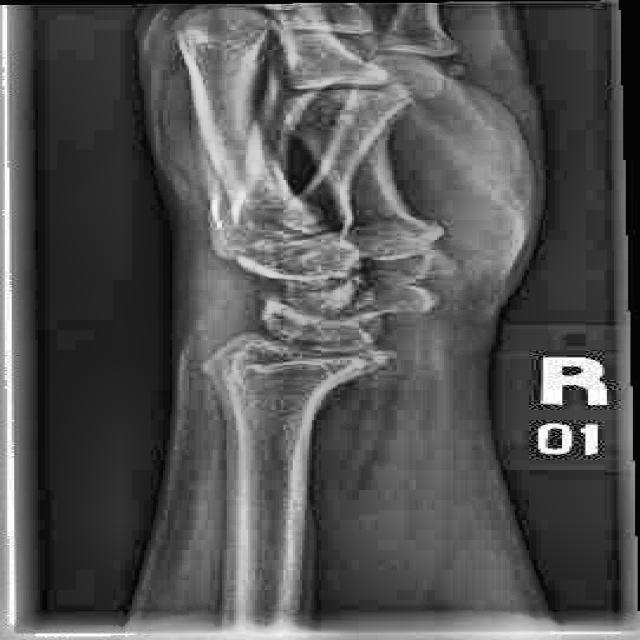fingers positive: (187, 328, 432, 406)
